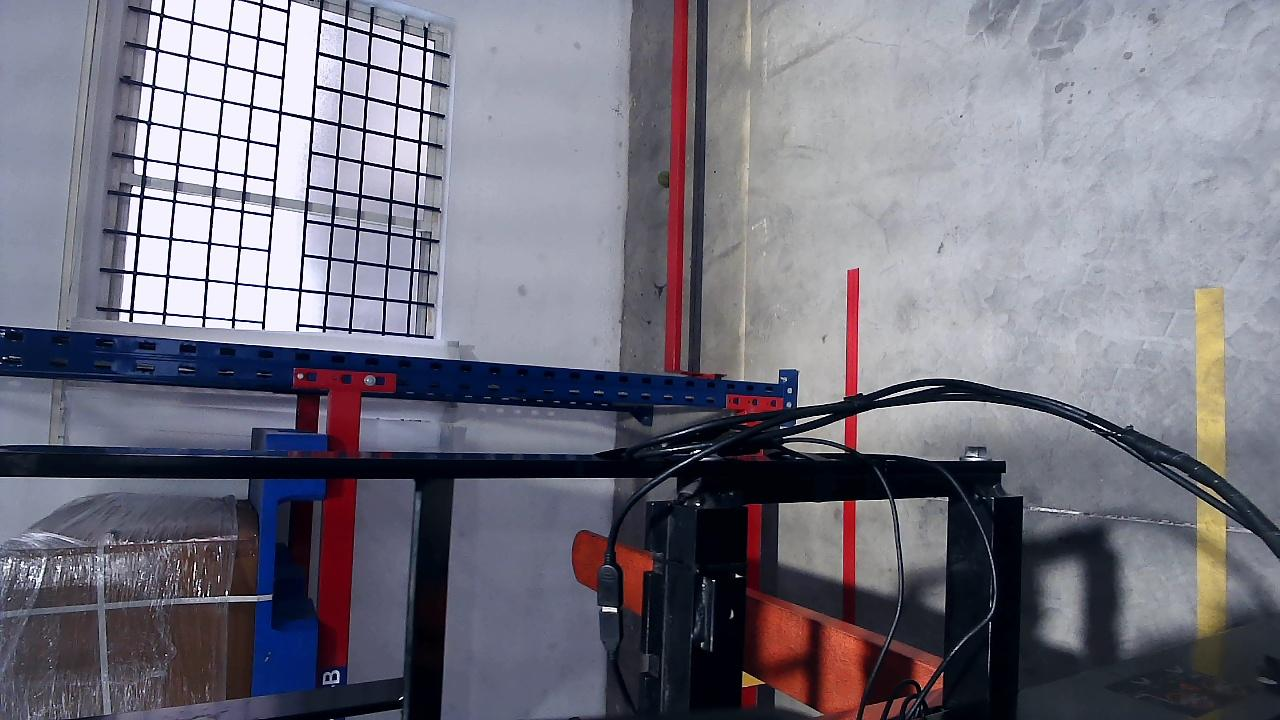h_rack: (315, 390, 365, 694)
red_line: (845, 269, 863, 617)
yellow_line: (1194, 287, 1227, 630)
